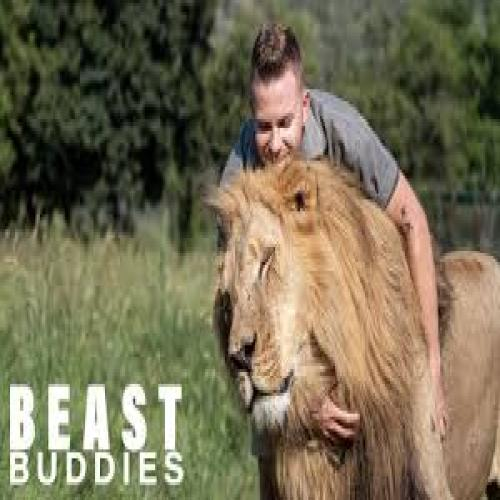lion-endangered: (212, 164, 500, 500)
